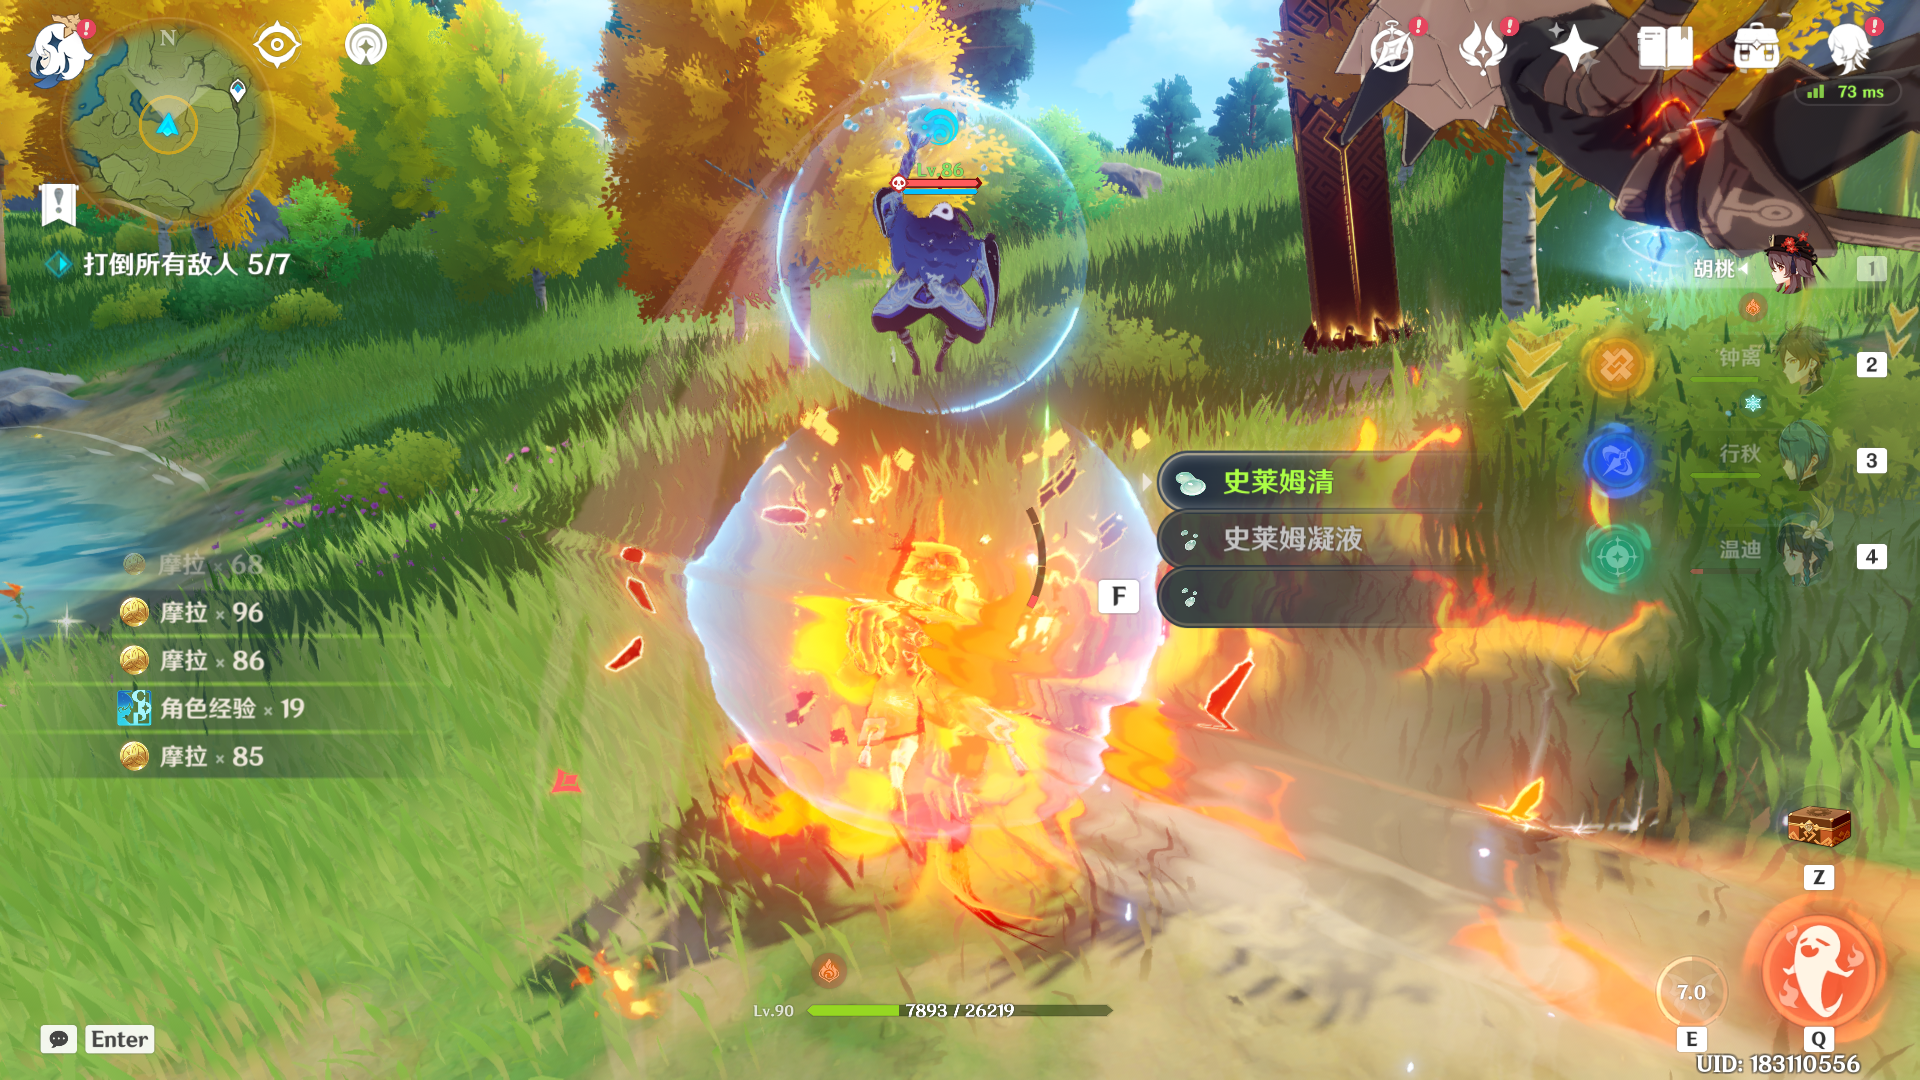caster: (822, 113, 1040, 411)
